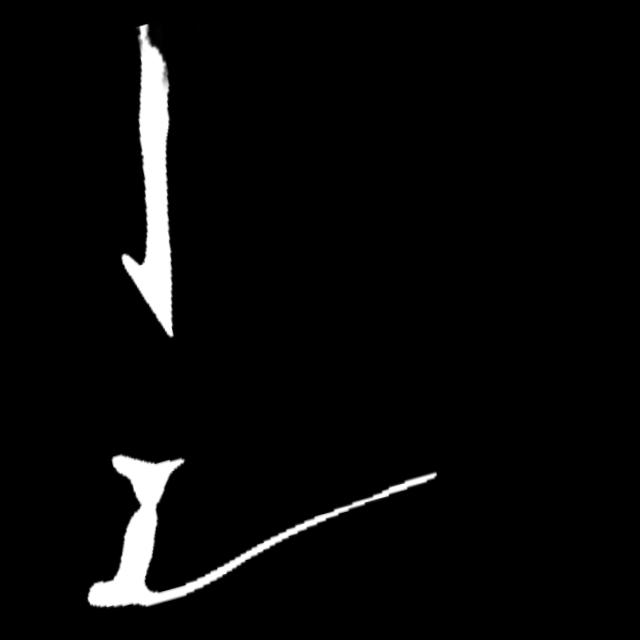sl: (122, 19, 182, 92)
